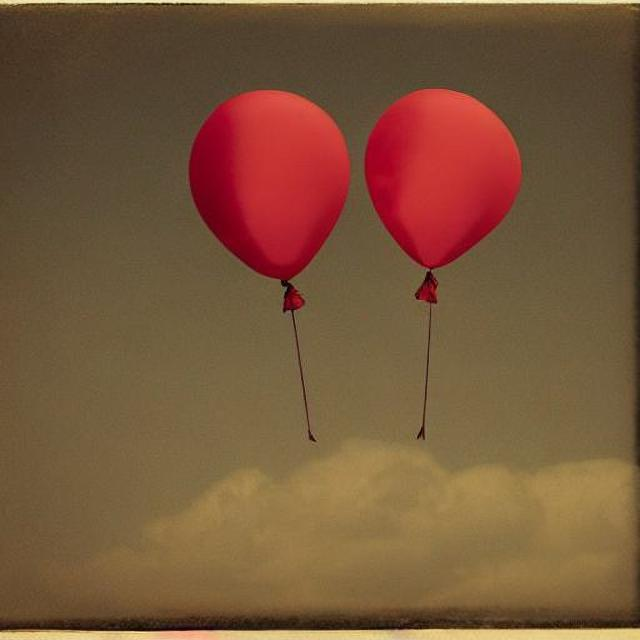balloon: (174, 74, 344, 304), (350, 83, 522, 295)
